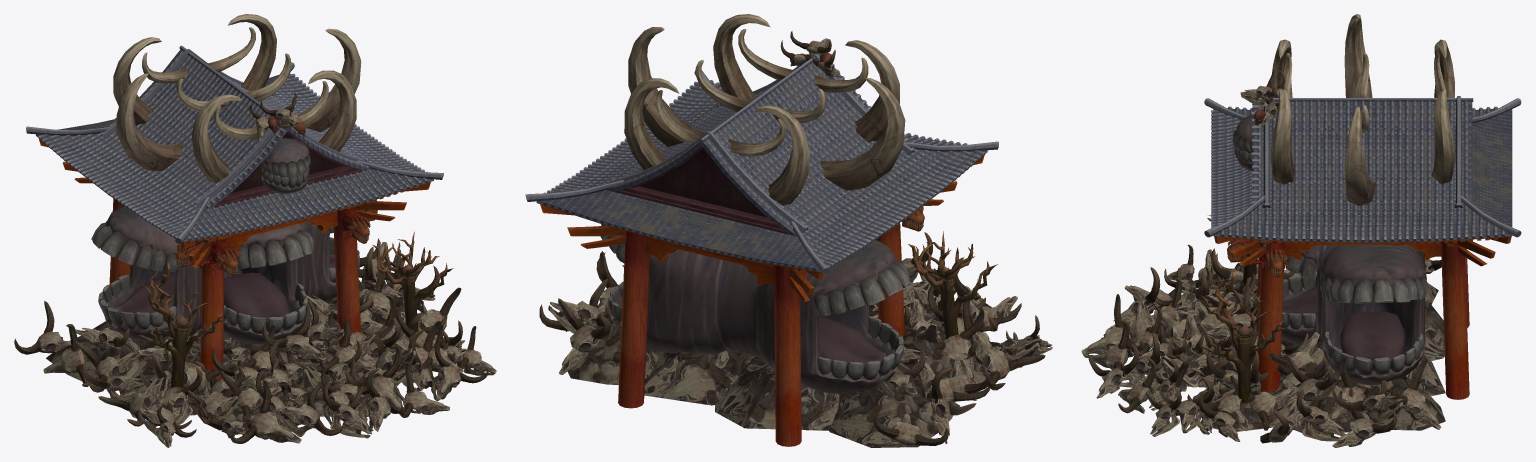
File: malevolent-shrine.glb
3 renders of one model, left to right at view 1: azimuth 30°, elevation 25°; view 2: azimuth 150°, elevation 25°; view 3: azimuth 270°, elevation 25°, orthographic. The views are drawn at different scales.
Visible parts, largest first — view 1: SM_SQ_SuperCursedEnergy_CP_020_MalevolentShrine 2_2, SM_SQ_SuperCursedEnergy_CP_020_MalevolentShrine 1_1, SM_SQ_SuperCursedEnergy_CP_020_MalevolentShrine_0, SM_SQ_SuperCursedEnergy_CP_020_MalevolentShrine 3_3, SM_SQ_SuperCursedEnergy_CP_020_MalevolentShrine 4_4; view 2: SM_SQ_SuperCursedEnergy_CP_020_MalevolentShrine 2_2, SM_SQ_SuperCursedEnergy_CP_020_MalevolentShrine 1_1, SM_SQ_SuperCursedEnergy_CP_020_MalevolentShrine_0, SM_SQ_SuperCursedEnergy_CP_020_MalevolentShrine 4_4, SM_SQ_SuperCursedEnergy_CP_020_MalevolentShrine 3_3; view 3: SM_SQ_SuperCursedEnergy_CP_020_MalevolentShrine 2_2, SM_SQ_SuperCursedEnergy_CP_020_MalevolentShrine 1_1, SM_SQ_SuperCursedEnergy_CP_020_MalevolentShrine_0, SM_SQ_SuperCursedEnergy_CP_020_MalevolentShrine 4_4, SM_SQ_SuperCursedEnergy_CP_020_MalevolentShrine 3_3.
Part boxes in pixels (x1,y1,x2,y2): SM_SQ_SuperCursedEnergy_CP_020_MalevolentShrine 2_2: (14, 14, 496, 447); SM_SQ_SuperCursedEnergy_CP_020_MalevolentShrine 1_1: (26, 45, 443, 267); SM_SQ_SuperCursedEnergy_CP_020_MalevolentShrine_0: (91, 138, 359, 344); SM_SQ_SuperCursedEnergy_CP_020_MalevolentShrine 3_3: (138, 232, 453, 387); SM_SQ_SuperCursedEnergy_CP_020_MalevolentShrine 4_4: (46, 279, 409, 426); SM_SQ_SuperCursedEnergy_CP_020_MalevolentShrine 2_2: (539, 14, 1052, 446); SM_SQ_SuperCursedEnergy_CP_020_MalevolentShrine 1_1: (525, 53, 998, 301); SM_SQ_SuperCursedEnergy_CP_020_MalevolentShrine_0: (600, 224, 910, 394); SM_SQ_SuperCursedEnergy_CP_020_MalevolentShrine 4_4: (567, 305, 990, 447); SM_SQ_SuperCursedEnergy_CP_020_MalevolentShrine 3_3: (908, 231, 997, 339); SM_SQ_SuperCursedEnergy_CP_020_MalevolentShrine 2_2: (1081, 14, 1469, 447); SM_SQ_SuperCursedEnergy_CP_020_MalevolentShrine 1_1: (1204, 96, 1521, 266); SM_SQ_SuperCursedEnergy_CP_020_MalevolentShrine_0: (1232, 115, 1428, 384); SM_SQ_SuperCursedEnergy_CP_020_MalevolentShrine 4_4: (1145, 274, 1445, 432); SM_SQ_SuperCursedEnergy_CP_020_MalevolentShrine 3_3: (1200, 215, 1287, 403).
Size of the model in its own units: 18.13 by 13.59 by 17.74.
Materials: 5 (5 with a texture image).
